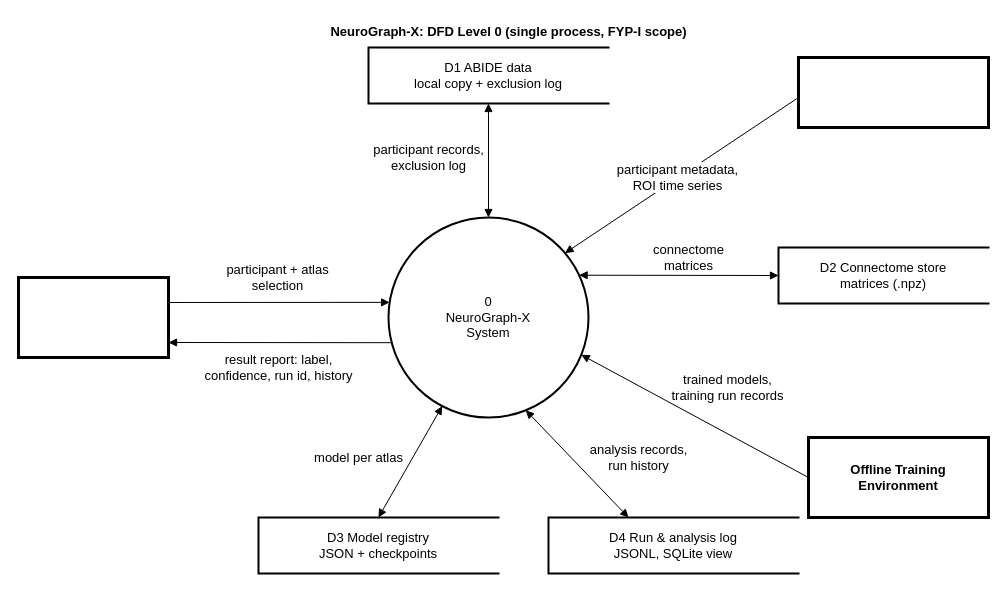
Some shapes in this 1007 by 591 pixel diagram are drawn without their labels. The shapes that lost their labels are listed below. From the top down, each one's centre as x and y in pixels, then its label:
At pixel 893 92: "ABIDE Preprocessed (external dataset)".
At pixel 93 317: "Research User".
